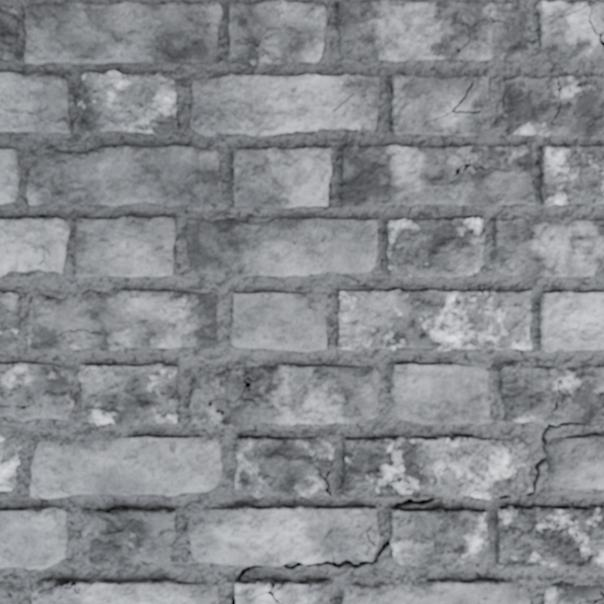brick: (25, 1, 221, 63), (341, 436, 531, 498), (31, 435, 221, 497), (338, 289, 530, 350), (342, 144, 534, 205), (27, 145, 221, 205), (190, 74, 378, 135), (188, 504, 378, 564), (337, 0, 526, 60), (190, 364, 379, 424), (27, 290, 216, 350), (187, 218, 377, 276), (496, 505, 603, 567), (499, 361, 603, 424), (494, 217, 603, 276), (229, 0, 326, 65), (78, 71, 176, 134), (78, 363, 178, 424), (391, 74, 488, 135), (503, 76, 603, 135), (76, 216, 174, 276), (235, 437, 333, 497), (233, 148, 330, 208), (392, 363, 489, 423), (387, 218, 485, 277), (230, 292, 326, 350), (391, 508, 486, 565), (82, 506, 175, 564), (342, 579, 529, 603), (32, 579, 217, 603), (0, 362, 73, 421), (0, 72, 69, 132), (0, 506, 66, 568), (537, 1, 603, 62), (0, 218, 68, 275), (541, 144, 603, 205), (540, 291, 603, 351), (547, 434, 603, 488), (275, 580, 330, 603), (544, 582, 603, 603), (0, 291, 19, 346), (0, 5, 18, 60), (0, 435, 18, 490), (0, 149, 18, 202), (235, 580, 275, 603), (0, 582, 18, 603), (591, 2, 603, 32), (271, 580, 281, 588), (109, 507, 117, 511)
crack: (525, 421, 588, 496), (307, 524, 390, 568), (560, 0, 603, 46), (33, 581, 82, 601), (554, 76, 576, 119), (248, 580, 285, 603), (310, 461, 332, 496), (393, 496, 438, 508), (236, 564, 265, 581), (575, 591, 603, 603), (230, 39, 261, 47), (283, 561, 302, 569), (105, 507, 121, 515), (498, 494, 510, 498), (231, 594, 236, 603)
